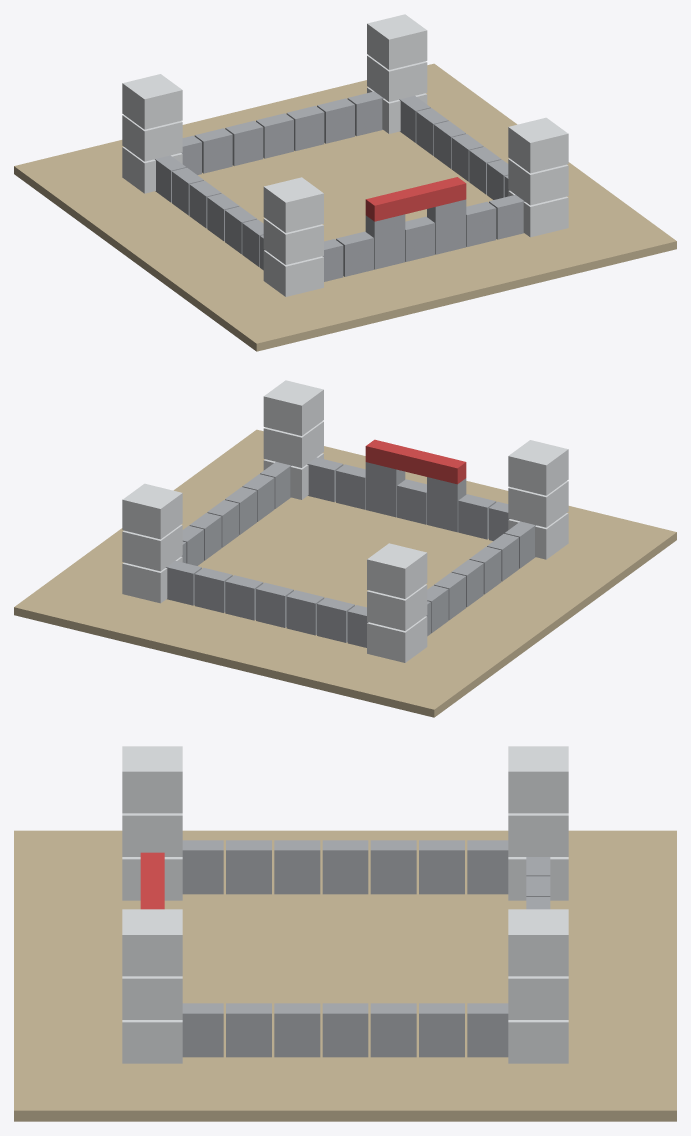
File: gpt-castelo-de-blocos.glb
The picture shows the model from 3 angles, top to bottom: view 1: azimuth 30°, elevation 25°; view 2: azimuth 150°, elevation 25°; view 3: azimuth 270°, elevation 25°; orthographic projection. The views are drawn at different scales.
Visible parts, largest first — view 1: Castelo de Blocos-000, Castelo de Blocos-044, Castelo de Blocos-041, Castelo de Blocos-035, Castelo de Blocos-038, Castelo de Blocos-047, Castelo de Blocos-040, Castelo de Blocos-043, Castelo de Blocos-034, Castelo de Blocos-036, Castelo de Blocos-037, Castelo de Blocos-042 (+30 smaller); view 2: Castelo de Blocos-000, Castelo de Blocos-041, Castelo de Blocos-044, Castelo de Blocos-035, Castelo de Blocos-038, Castelo de Blocos-047, Castelo de Blocos-043, Castelo de Blocos-040, Castelo de Blocos-033, Castelo de Blocos-034, Castelo de Blocos-037, Castelo de Blocos-046 (+30 smaller); view 3: Castelo de Blocos-000, Castelo de Blocos-035, Castelo de Blocos-038, Castelo de Blocos-041, Castelo de Blocos-044, Castelo de Blocos-034, Castelo de Blocos-039, Castelo de Blocos-040, Castelo de Blocos-042, Castelo de Blocos-043, Castelo de Blocos-037, Castelo de Blocos-023 (+16 smaller).
Part boxes in pixels (box(x1,y1,x2,y2)): Castelo de Blocos-000: box(14, 63, 676, 351); Castelo de Blocos-044: box(508, 117, 568, 173); Castelo de Blocos-041: box(367, 14, 427, 69); Castelo de Blocos-035: box(122, 74, 182, 129); Castelo de Blocos-038: box(263, 177, 323, 232); Castelo de Blocos-047: box(365, 177, 466, 221); Castelo de Blocos-040: box(367, 55, 427, 101); Castelo de Blocos-043: box(508, 158, 568, 205); Castelo de Blocos-034: box(122, 115, 182, 161); Castelo de Blocos-036: box(263, 250, 323, 296); Castelo de Blocos-037: box(263, 218, 323, 264); Castelo de Blocos-042: box(508, 190, 568, 237); Castelo de Blocos-000: box(14, 429, 676, 717); Castelo de Blocos-041: box(122, 483, 182, 539); Castelo de Blocos-044: box(263, 380, 323, 435); Castelo de Blocos-035: box(367, 543, 427, 598); Castelo de Blocos-038: box(508, 440, 568, 495); Castelo de Blocos-047: box(365, 439, 466, 484); Castelo de Blocos-043: box(263, 421, 323, 467); Castelo de Blocos-040: box(122, 524, 182, 571); Castelo de Blocos-033: box(367, 616, 427, 662); Castelo de Blocos-034: box(367, 584, 427, 630); Castelo de Blocos-037: box(508, 481, 568, 527); Castelo de Blocos-046: box(365, 462, 405, 517); Castelo de Blocos-000: box(14, 830, 676, 1121); Castelo de Blocos-035: box(508, 746, 568, 813); Castelo de Blocos-038: box(122, 746, 182, 813); Castelo de Blocos-041: box(508, 909, 568, 976); Castelo de Blocos-044: box(122, 909, 182, 976); Castelo de Blocos-034: box(508, 813, 568, 856); Castelo de Blocos-039: box(508, 1020, 568, 1063); Castelo de Blocos-040: box(508, 976, 568, 1019); Castelo de Blocos-042: box(122, 1020, 182, 1063); Castelo de Blocos-043: box(122, 976, 182, 1019); Castelo de Blocos-037: box(122, 813, 182, 856); Castelo de Blocos-023: box(370, 840, 416, 894).
Size of the model in its own units: 55 by 12.9 by 55.
